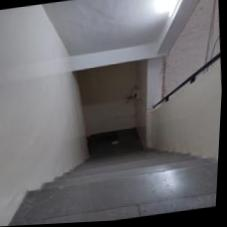Animal: (56, 137, 196, 205)
